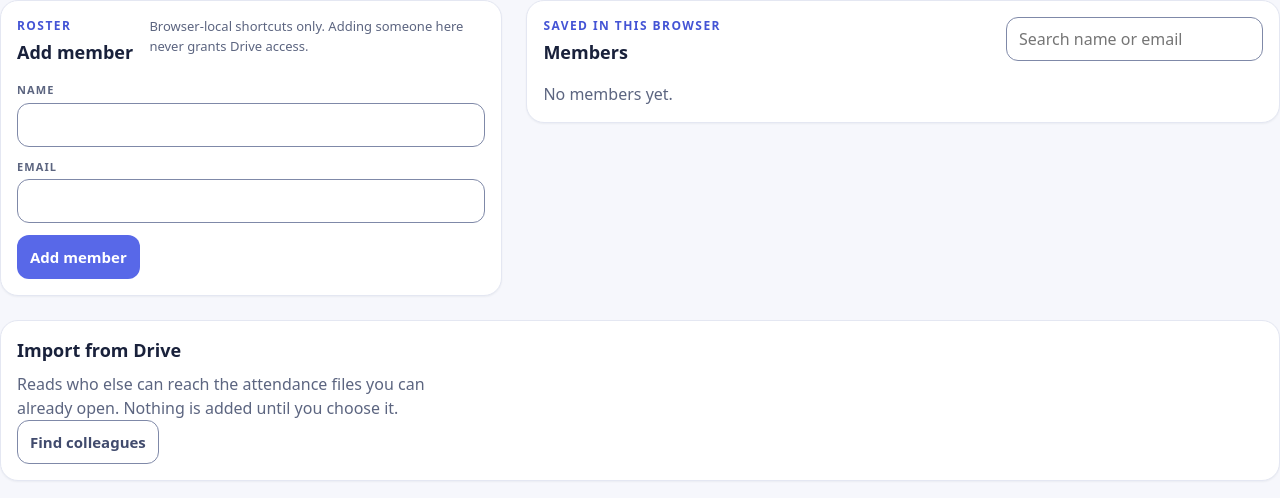
MemberRoster › removes a member
In the field labelled "Name": (251, 124) [17, 102, 485, 146], type "THAI GIA HAN"
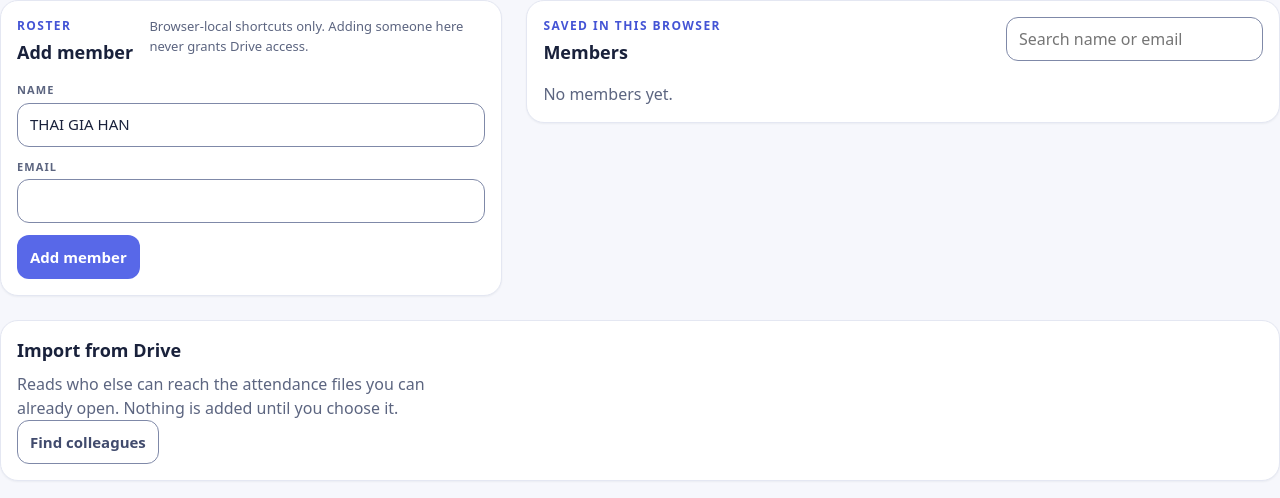
In the field labelled "Email": (251, 201) [17, 179, 485, 223], type "han.tg@blended-asia.com"
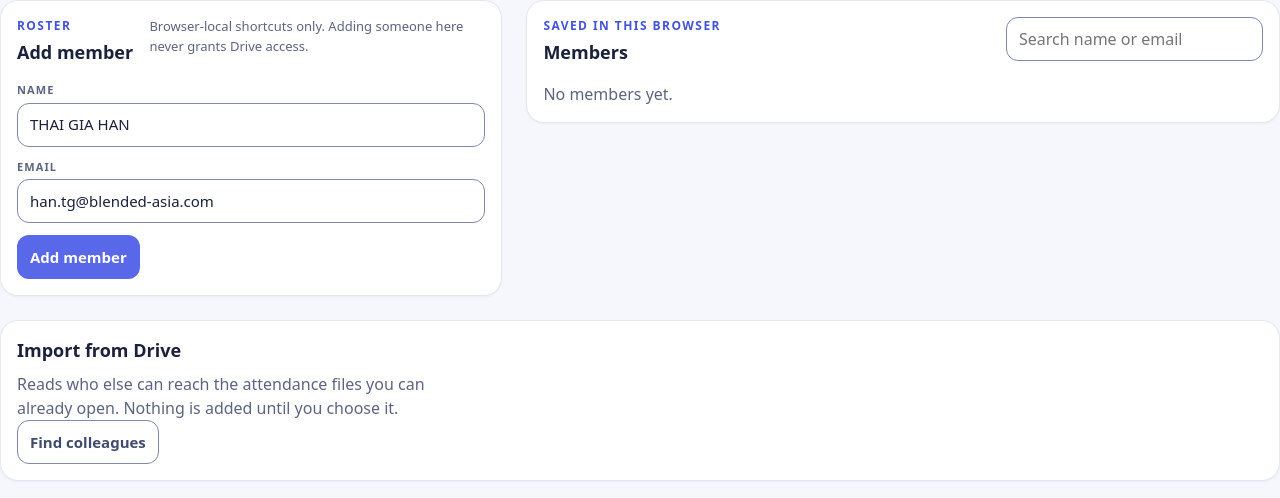
Click the button "Add member": (78, 257) [17, 235, 140, 279]
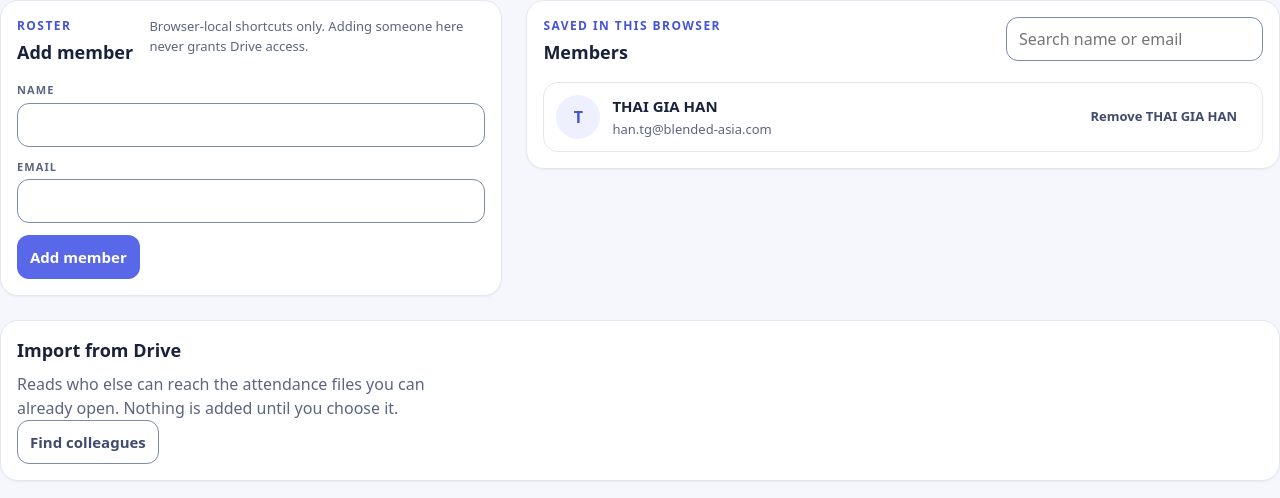
Result: the heading "THAI GIA HAN" is shown at [612, 96, 718, 116]
Click the button "Remove THAI GIA HAN": (1164, 117) [1078, 99, 1250, 135]
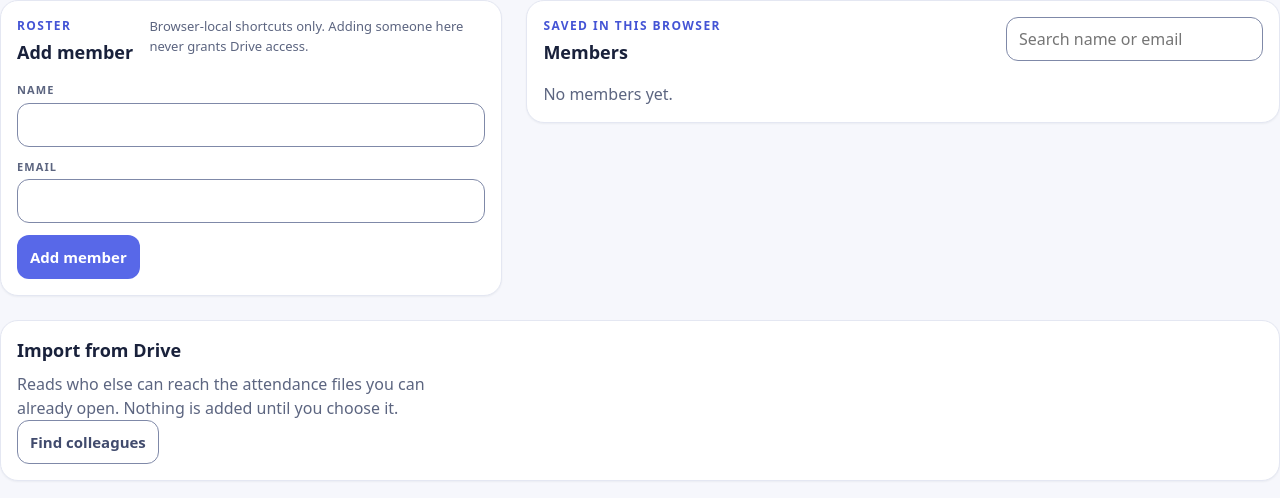
Result: the text "No members yet." is shown at [543, 83, 673, 105]
